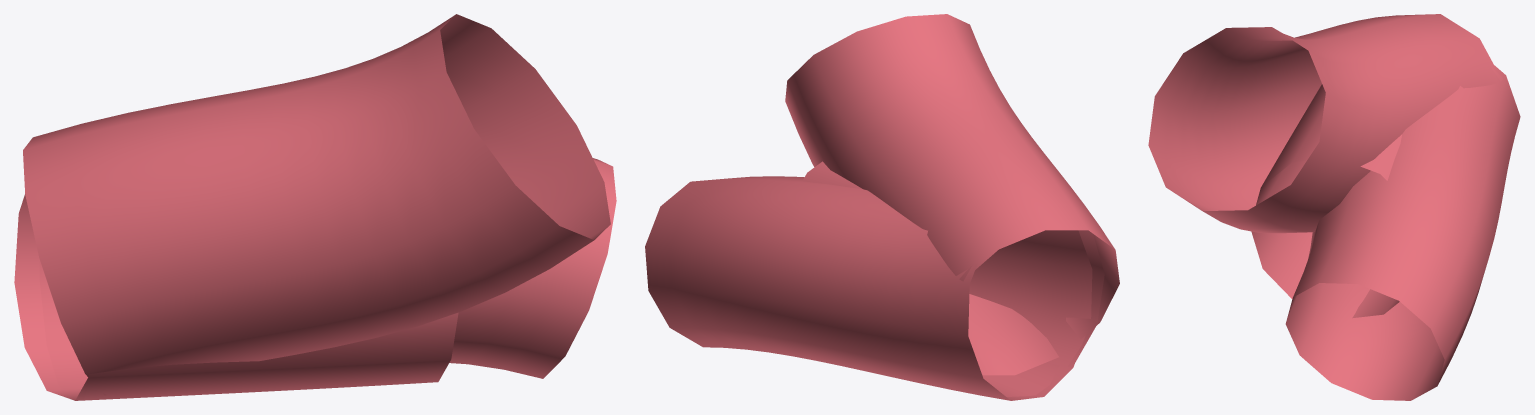
The picture shows the model from 3 angles, left to right: view 1: azimuth 30°, elevation 25°; view 2: azimuth 150°, elevation 25°; view 3: azimuth 270°, elevation 25°; orthographic projection. The views are drawn at different scales.
Visible parts, largest first — view 1: ZA_679501395d4c5d84; view 2: ZA_679501395d4c5d84; view 3: ZA_679501395d4c5d84.
Boxes of the visible parts, <box> form: ZA_679501395d4c5d84: <box>14,14,616,400</box>; ZA_679501395d4c5d84: <box>645,14,1119,400</box>; ZA_679501395d4c5d84: <box>1148,14,1520,400</box>.
Bounding box in the file's own units: 0.0175 × 0.0123 × 0.0131.
